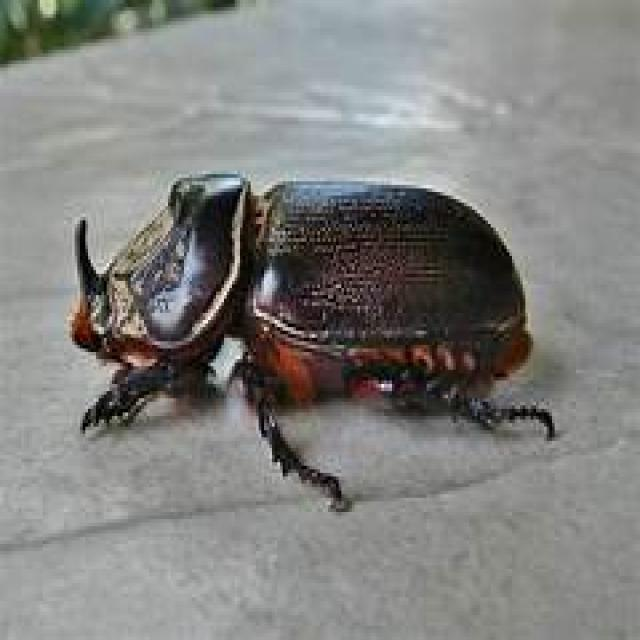Rhino-beetle: (49, 157, 596, 493)
